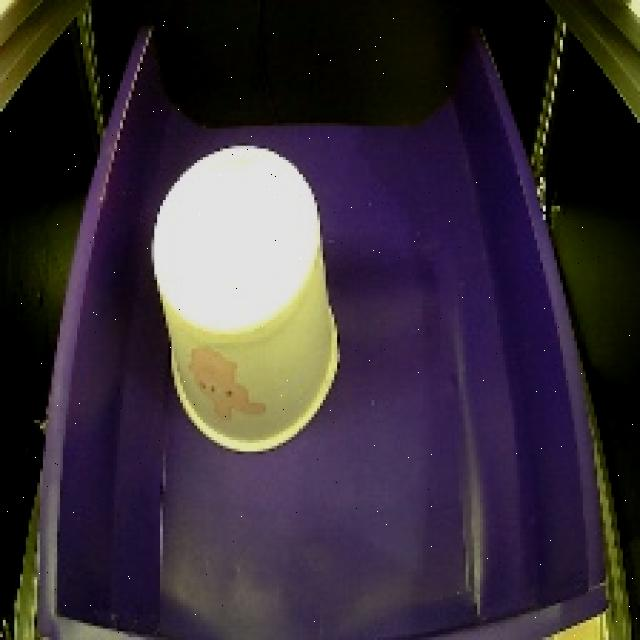cups: (144, 132, 351, 461)
